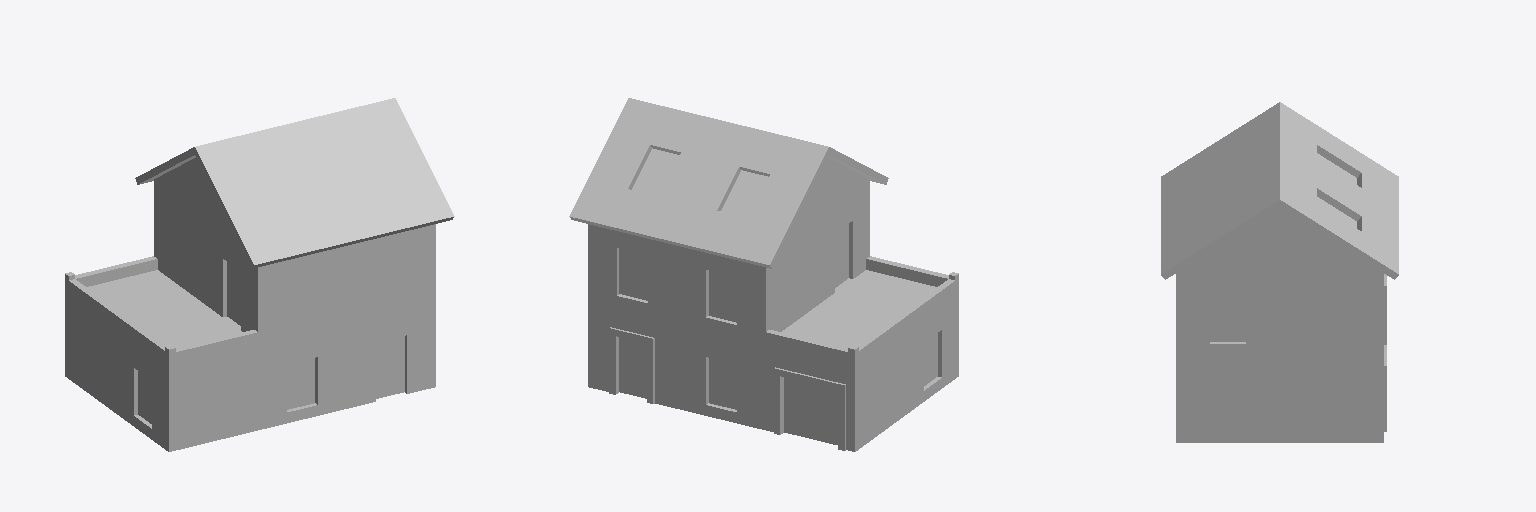
Rendered from city_house_m.obj.
3 renders of one model, left to right at view 1: azimuth 30°, elevation 25°; view 2: azimuth 150°, elevation 25°; view 3: azimuth 270°, elevation 25°, orthographic.
Parts seen in each view (by area): view 1: mergedBlocks; view 2: mergedBlocks; view 3: mergedBlocks.
Boxes of the visible parts, box(x1,y1,x2,y2) form: mergedBlocks: box(65, 98, 454, 451); mergedBlocks: box(569, 98, 958, 451); mergedBlocks: box(1161, 102, 1398, 442).
Size of the model in its own units: 0.8 by 0.6825 by 0.5936.